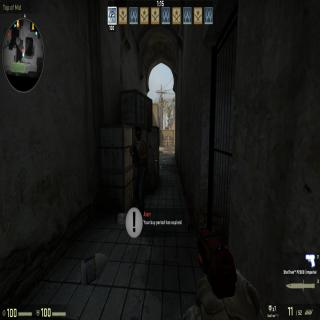T-Body: (130, 124, 148, 214)
T-Head: (133, 122, 143, 145)
